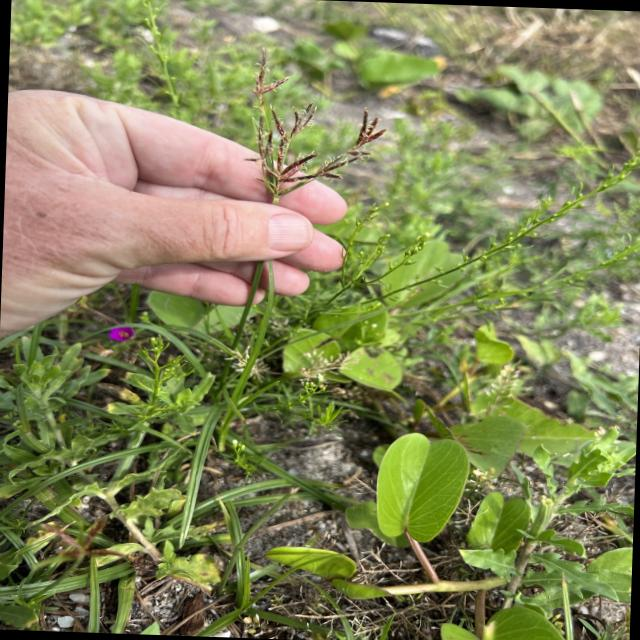cyperus: (238, 44, 400, 207)
